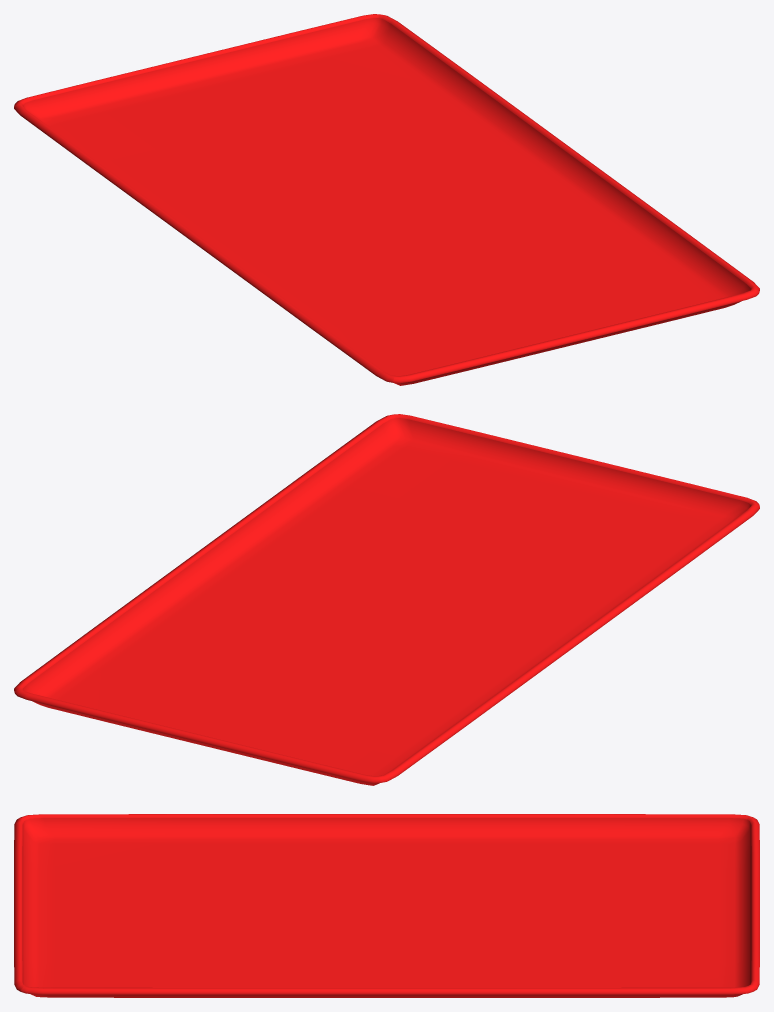
File: SM_Sterilization_Container_Tray.FBX
3 views of the same model, one above another, from view 1: azimuth 30°, elevation 25°; view 2: azimuth 150°, elevation 25°; view 3: azimuth 270°, elevation 25° (orthographic). The views are drawn at different scales.
Parts seen in each view (by area): view 1: Sterilization_Container_Tray; view 2: Sterilization_Container_Tray; view 3: Sterilization_Container_Tray.
Part boxes in pixels (left/top/right/bottom): Sterilization_Container_Tray: left=14, top=14, right=759, bottom=385; Sterilization_Container_Tray: left=14, top=414, right=759, bottom=785; Sterilization_Container_Tray: left=14, top=814, right=759, bottom=997.
Bounding box in the file's own units: 36.51 × 1.65 × 64.48.
